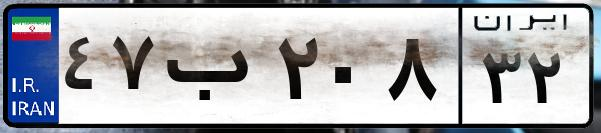0: (330, 28, 385, 110)
2: (270, 28, 330, 110), (525, 38, 570, 115)
3: (475, 38, 525, 113)
4: (57, 26, 110, 100)
7: (110, 28, 158, 98)
8: (385, 28, 445, 110)
ب: (158, 20, 270, 120)
